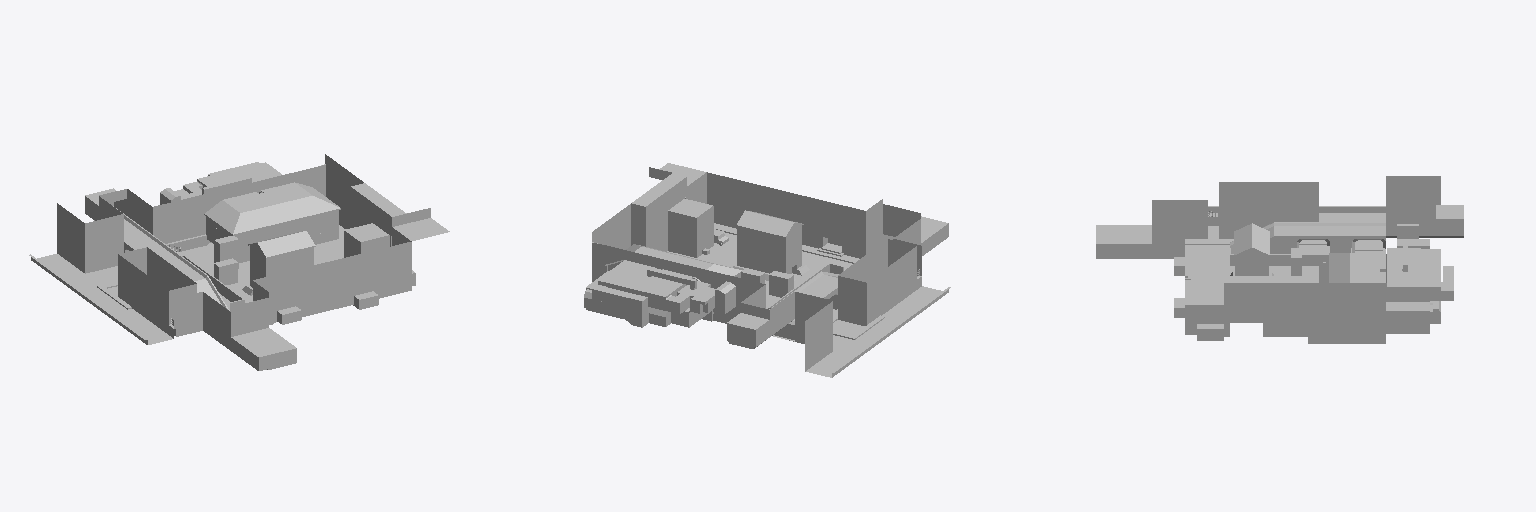
Rendered from csAssult.obj.
3 renders of one model, left to right at view 1: azimuth 30°, elevation 25°; view 2: azimuth 150°, elevation 25°; view 3: azimuth 270°, elevation 25°, orthographic.
Visible parts, largest first — view 1: part4_part4_0, part8_part8_0, part3_part3_0, part6_part6_0, part1_part1_0, part5_part5_0, part7_part7_0, part10_part10_0, part2_part2_0, part9_part9_0; view 2: part4_part4_0, part3_part3_0, part1_part1_0, part10_part10_0, part2_part2_0, part8_part8_0, part9_part9_0, part5_part5_0, part6_part6_0; view 3: part4_part4_0, part3_part3_0, part8_part8_0, part1_part1_0, part5_part5_0, part9_part9_0, part2_part2_0, part10_part10_0, part7_part7_0, part6_part6_0.
Part boxes in pixels (bbox=[...]): part4_part4_0: bbox=[29, 188, 411, 370]; part8_part8_0: bbox=[261, 154, 373, 258]; part3_part3_0: bbox=[160, 243, 298, 340]; part6_part6_0: bbox=[176, 194, 249, 284]; part1_part1_0: bbox=[319, 190, 449, 285]; part5_part5_0: bbox=[125, 198, 198, 283]; part7_part7_0: bbox=[223, 190, 327, 262]; part10_part10_0: bbox=[160, 170, 258, 245]; part2_part2_0: bbox=[243, 231, 353, 305]; part9_part9_0: bbox=[225, 162, 281, 193]; part4_part4_0: bbox=[707, 172, 950, 377]; part3_part3_0: bbox=[766, 200, 908, 288]; part1_part1_0: bbox=[642, 163, 736, 259]; part10_part10_0: bbox=[626, 259, 735, 327]; part2_part2_0: bbox=[702, 210, 828, 287]; part8_part8_0: bbox=[592, 196, 668, 281]; part9_part9_0: bbox=[584, 255, 662, 319]; part5_part5_0: bbox=[727, 267, 849, 337]; part6_part6_0: bbox=[696, 264, 797, 323]; part4_part4_0: bbox=[1096, 176, 1463, 317]; part3_part3_0: bbox=[1174, 196, 1293, 275]; part8_part8_0: bbox=[1288, 272, 1386, 343]; part1_part1_0: bbox=[1185, 276, 1293, 340]; part5_part5_0: bbox=[1291, 196, 1410, 253]; part9_part9_0: bbox=[1380, 258, 1453, 333]; part2_part2_0: bbox=[1185, 223, 1273, 285]; part10_part10_0: bbox=[1381, 224, 1453, 285]; part7_part7_0: bbox=[1329, 253, 1385, 282]; part6_part6_0: bbox=[1291, 246, 1346, 282].
Bounding box in the file's own units: 70.83 × 15.11 × 76.64.